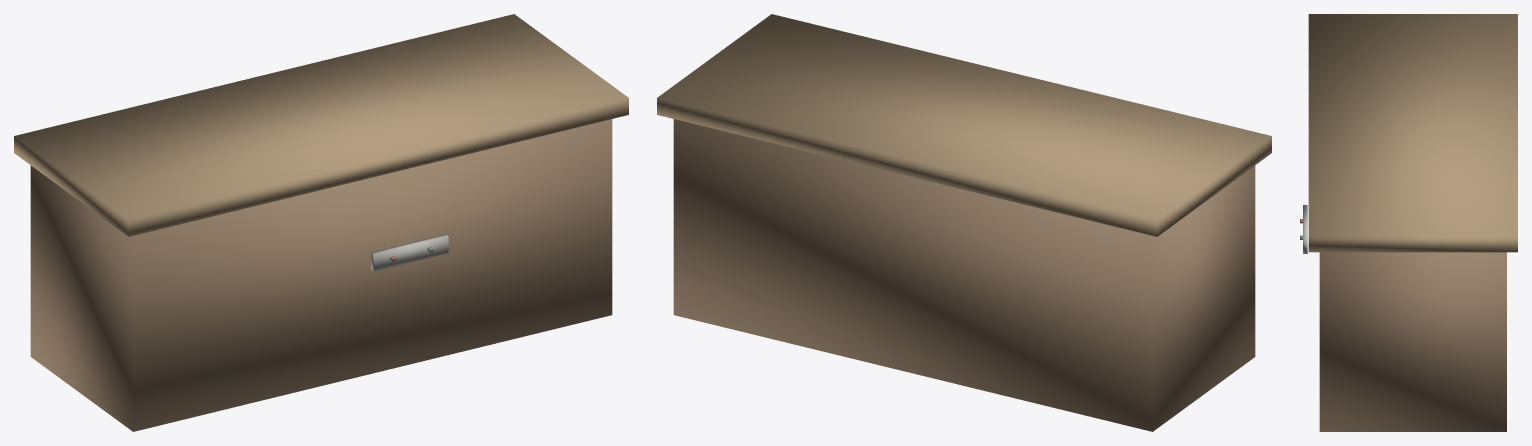
File: bank_teller_counter__squat.glb
3 views of the same model, side by side, from view 1: azimuth 30°, elevation 25°; view 2: azimuth 150°, elevation 25°; view 3: azimuth 270°, elevation 25° (orthographic). The views are drawn at different scales.
Parts seen in each view (by area): view 1: world; view 2: world; view 3: world.
Part boxes in pixels (x1,y1,x2,y2): world: (14, 14, 628, 431); world: (657, 14, 1271, 431); world: (1300, 14, 1517, 431).
Size of the model in its own units: 2.07 by 0.8652 by 0.8543.
